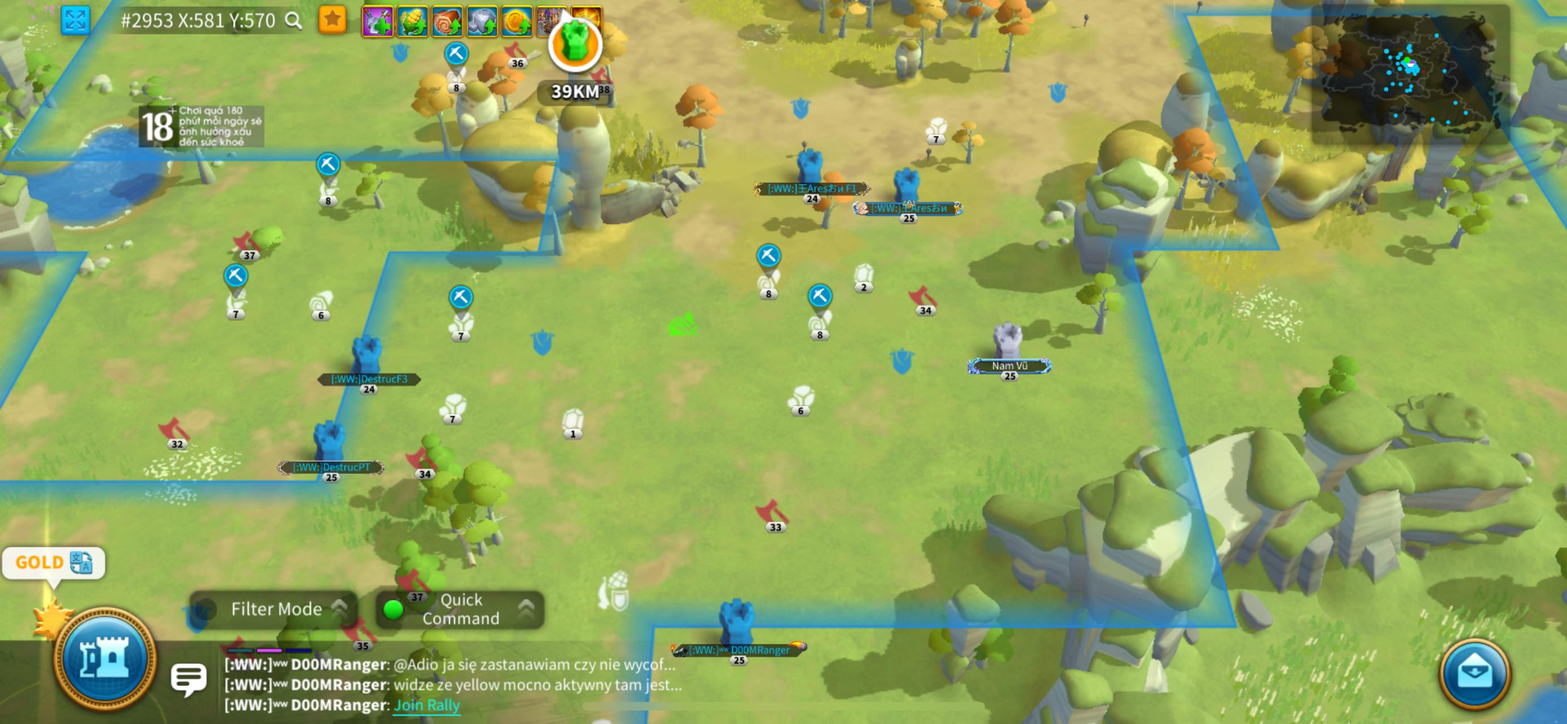gem-z-out: (561, 407, 586, 442), (853, 263, 875, 295)
